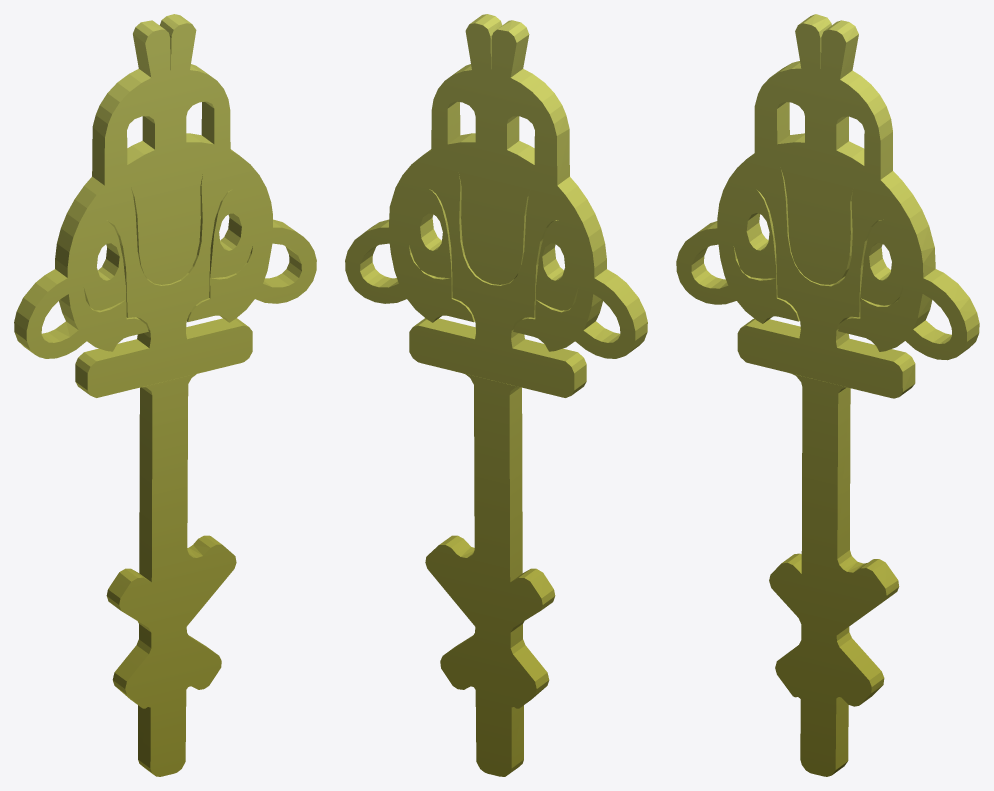
The model's file is LLAVEDETUMBAGA.fbx.
The picture shows the model from 3 angles, left to right: view 1: azimuth 30°, elevation 25°; view 2: azimuth 150°, elevation 25°; view 3: azimuth 330°, elevation 25°; orthographic projection.
Visible parts, largest first — view 1: Curve.001; view 2: Curve.001; view 3: Curve.001.
Boxes of the visible parts, x1,y1,x2,y2 form: Curve.001: (14,14,316,776); Curve.001: (345,14,647,776); Curve.001: (676,14,979,776).
Bounding box in the file's own units: 25.55 × 62.88 × 1.92.
